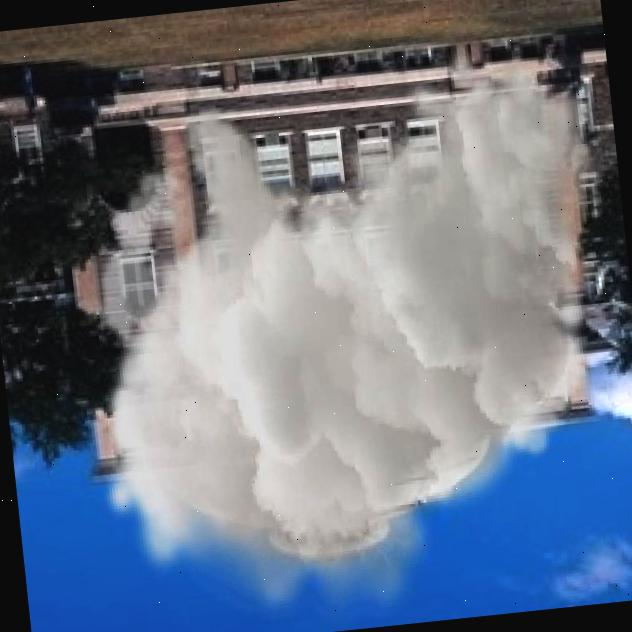smoke: (58, 29, 632, 632)
